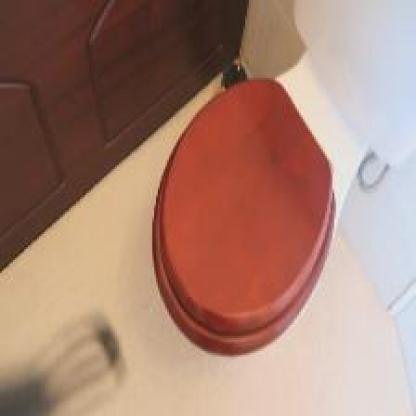other: (150, 95, 330, 344)
